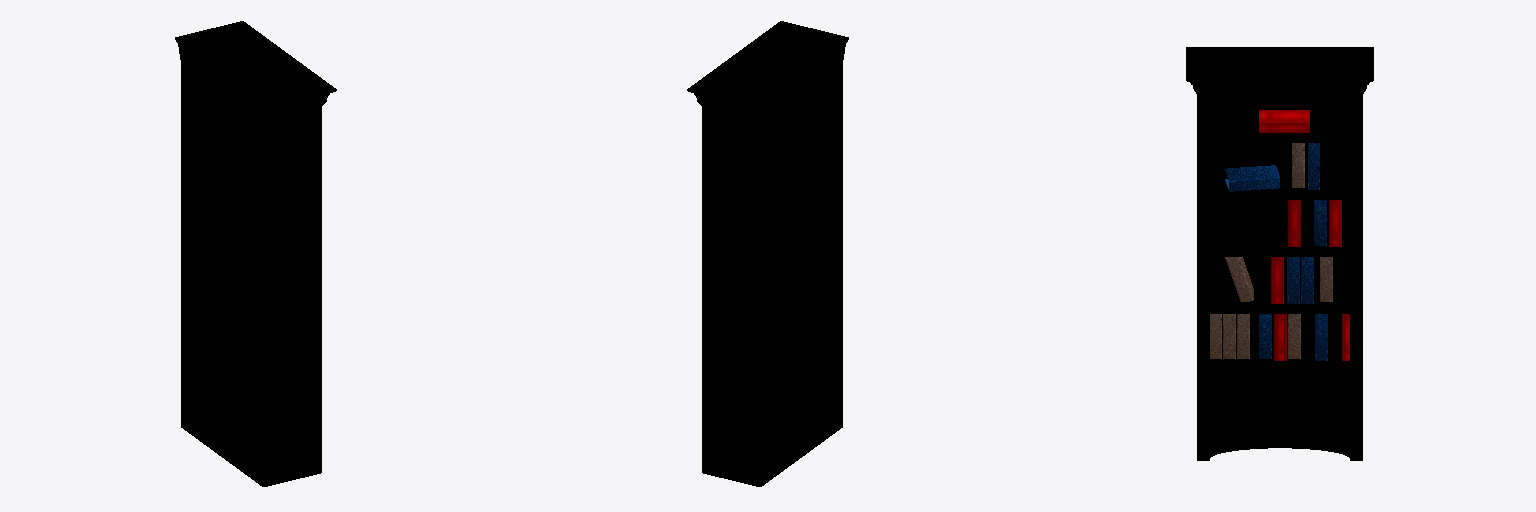
3 renders of one model, left to right at view 1: azimuth 30°, elevation 25°; view 2: azimuth 150°, elevation 25°; view 3: azimuth 270°, elevation 25°, orthographic.
Visible parts, largest first — view 1: Old_Dusty_Bookshelf30:Mesh_pasted__pasted__pasted__polySurface15; view 2: Old_Dusty_Bookshelf30:Mesh_pasted__pasted__pasted__polySurface15; view 3: Old_Dusty_Bookshelf30:Mesh_pasted__pasted__pasted__polySurface15.
Boxes of the visible parts, x1,y1,x2,y2 form: Old_Dusty_Bookshelf30:Mesh_pasted__pasted__pasted__polySurface15: [175, 21, 336, 486]; Old_Dusty_Bookshelf30:Mesh_pasted__pasted__pasted__polySurface15: [687, 21, 848, 486]; Old_Dusty_Bookshelf30:Mesh_pasted__pasted__pasted__polySurface15: [1186, 47, 1373, 460].
Bounding box in the file's own units: 0.8387 × 4.51 × 2.
Materials: 32 (3 with a texture image).